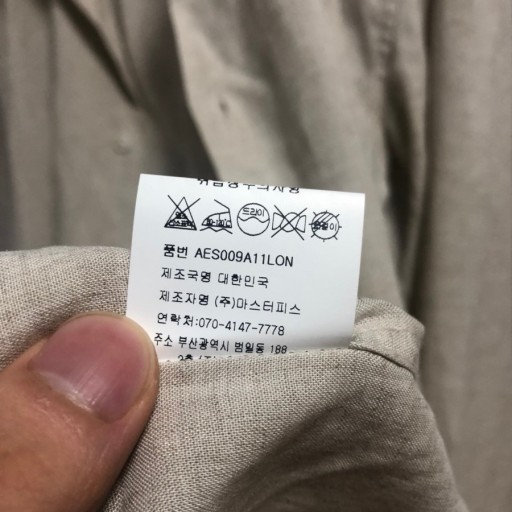KR_dry_clean: (236, 201, 271, 236)
KR_gentle_wring: (271, 204, 307, 240)
KR_hang_dry_in_shade: (308, 207, 342, 242)
KR_iron_low_temp_with_cloth: (200, 195, 235, 237)
KR_no_bleach: (162, 193, 201, 234)
